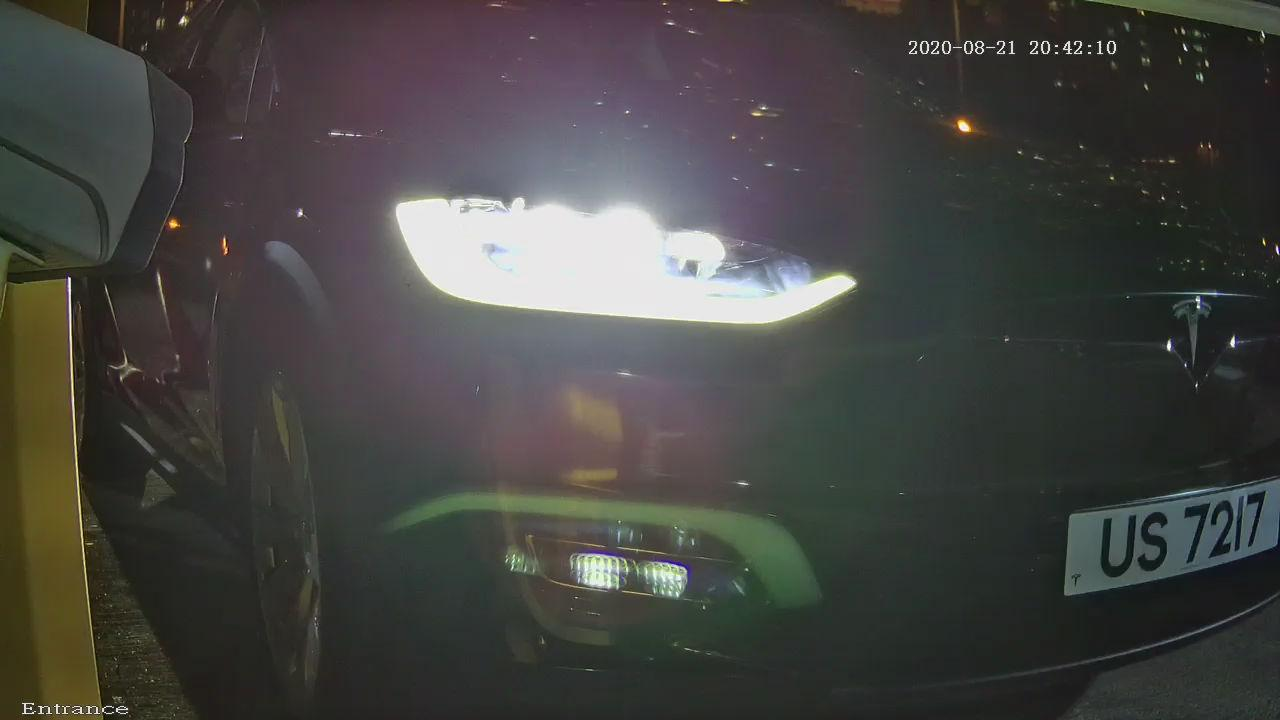License Plate: (1041, 452, 1280, 610)
